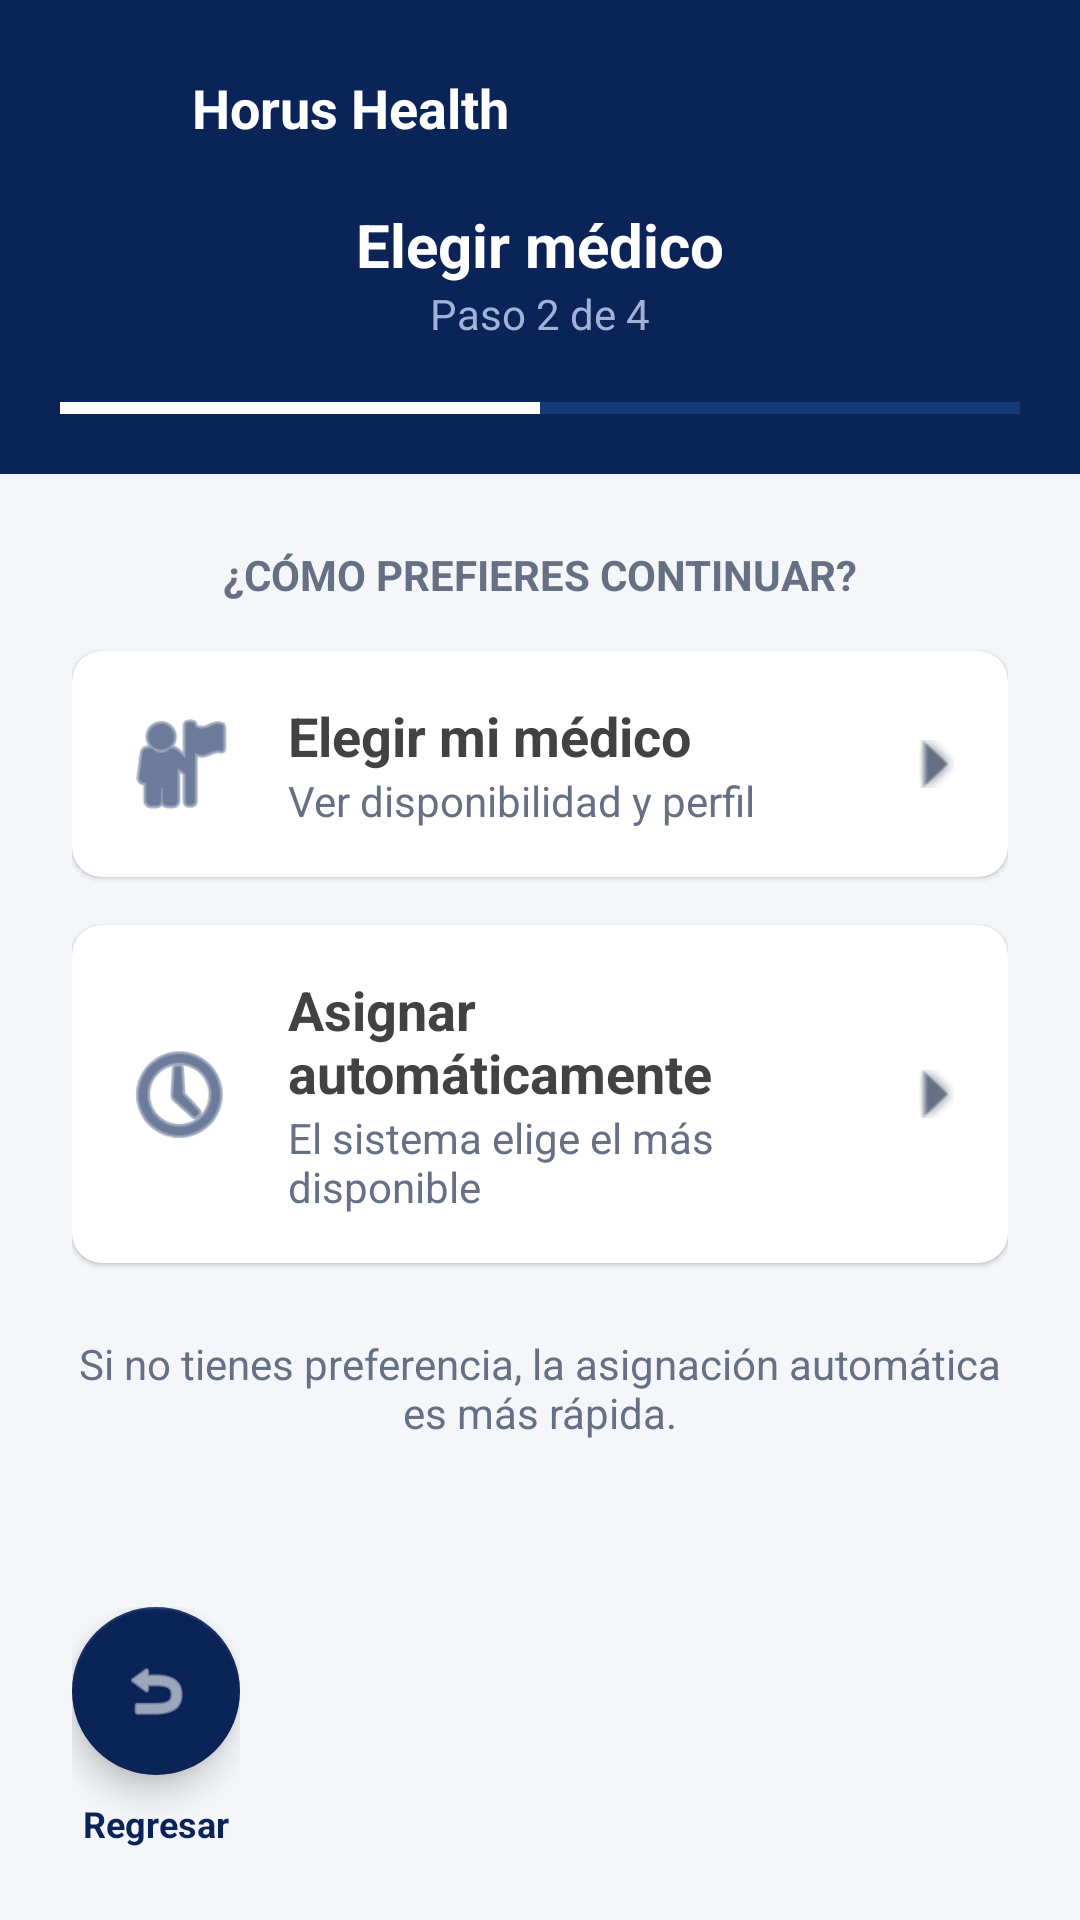

Named icons in this screenshot (1080 x 1920) and their centers, (x=x, y=y):
myplaces: (x=181, y=764)
recent history: (x=179, y=1094)
